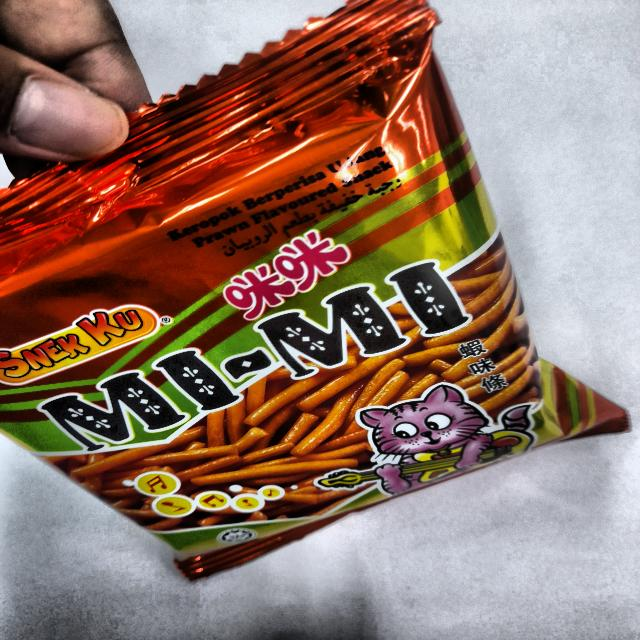Plastic: (16, 11, 604, 504)
